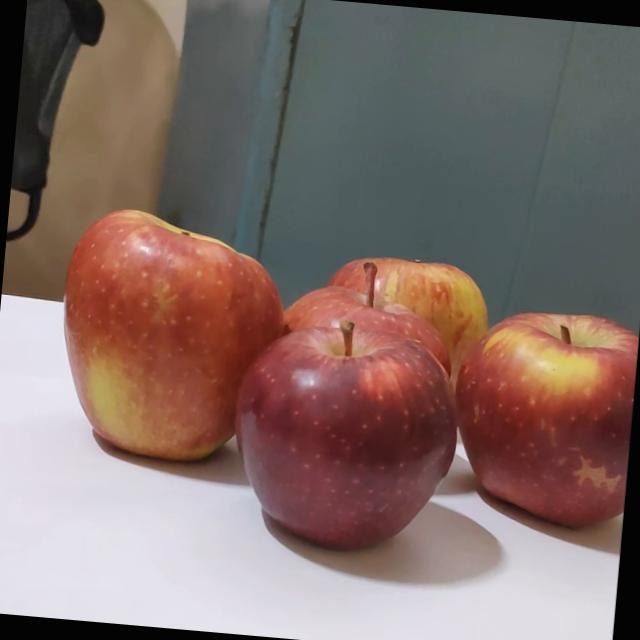apple: (55, 212, 284, 465), (233, 316, 462, 554), (445, 297, 640, 520), (271, 250, 456, 472), (291, 250, 458, 440)
